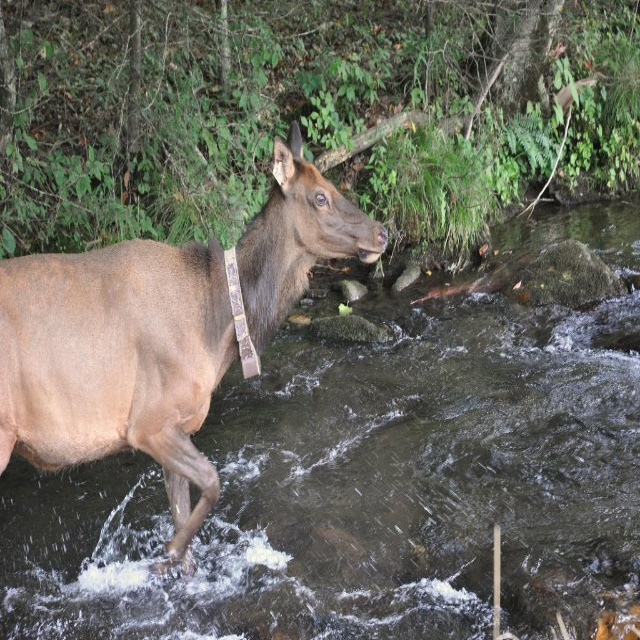Deer: (0, 120, 388, 578)
